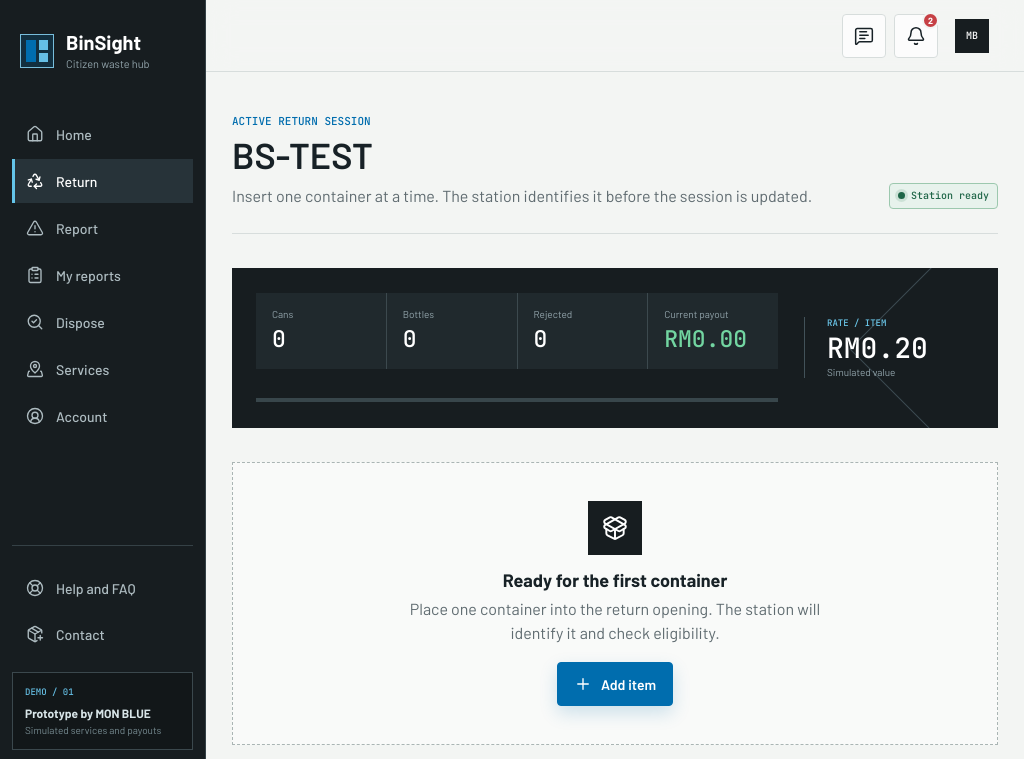
Test case: BinSight frontend › keeps rejected items out of the payout and offers another item
The image size is (1024, 759).
Step 1. Click the button "Add item" → click(615, 684), box x1=557 y1=662 x2=673 y2=706
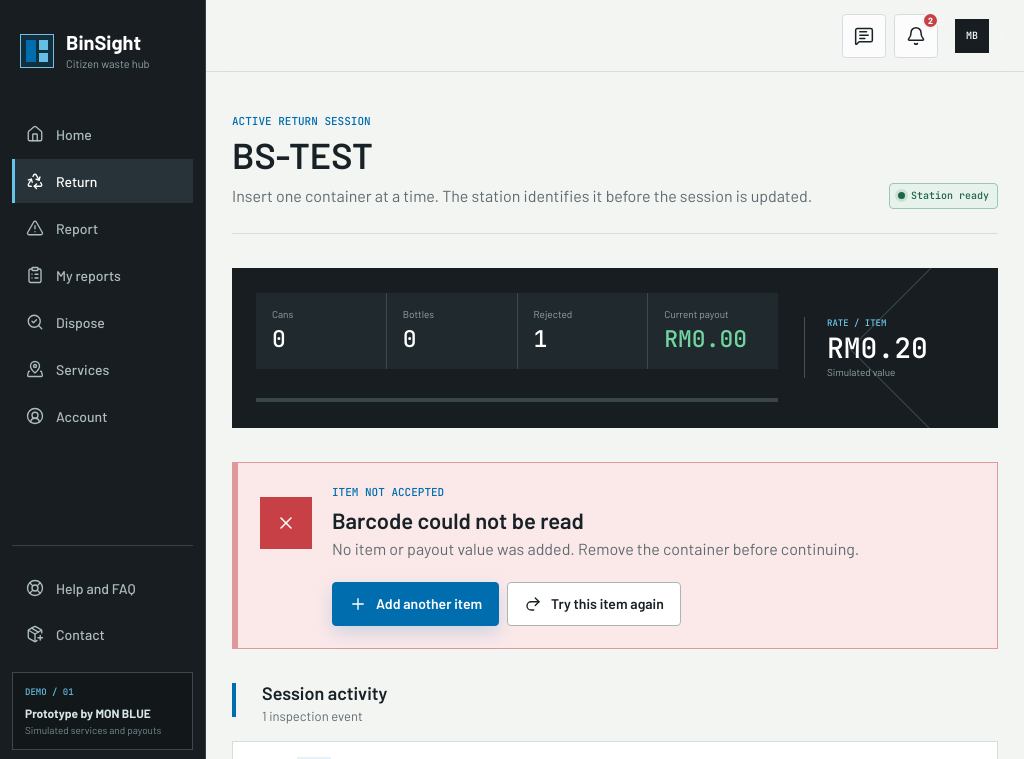
Expected: the text "RM0.00" below "Current payout" is shown, x1=664 y1=324 x2=747 y2=354
Expected: the heading "Barcode could not be read" is shown, x1=332 y1=507 x2=584 y2=533
Expected: the button "Add another item" is shown, x1=332 y1=582 x2=499 y2=626
